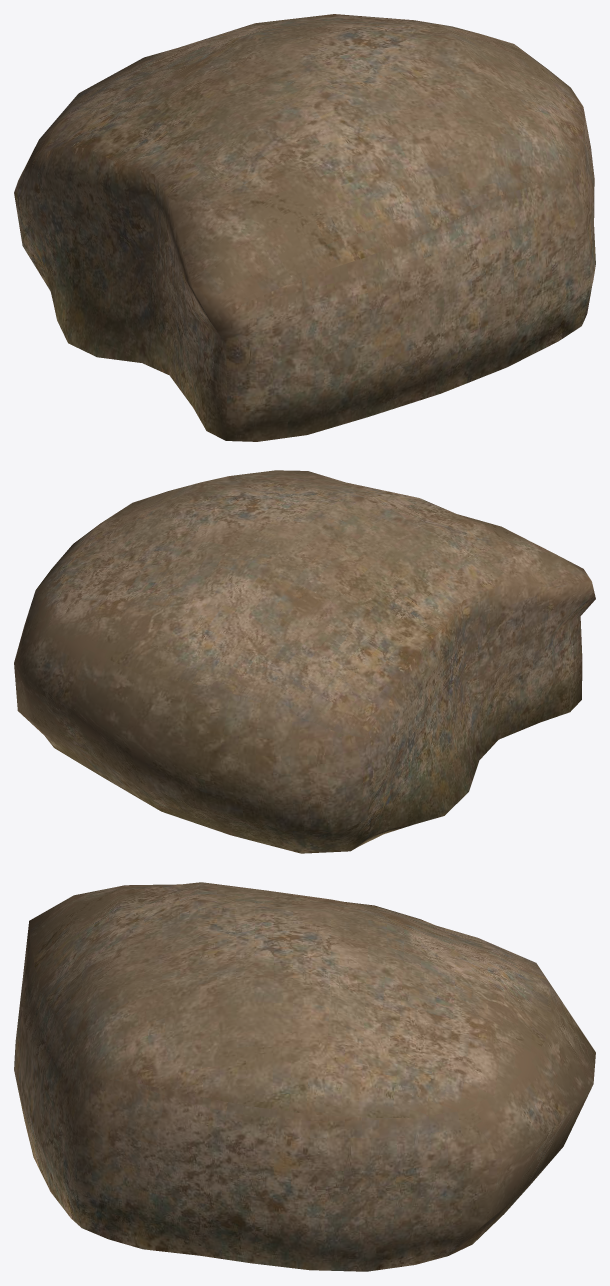
Rendered from Rock_1.glb.
3 views of the same model, one above another, from view 1: azimuth 30°, elevation 25°; view 2: azimuth 150°, elevation 25°; view 3: azimuth 270°, elevation 25° (orthographic). The views are drawn at different scales.
Visible parts, largest first — view 1: Rock_1__LOD3; view 2: Rock_1__LOD3; view 3: Rock_1__LOD3.
Boxes of the visible parts, x1,y1,x2,y2 form: Rock_1__LOD3: (14, 14, 595, 441); Rock_1__LOD3: (14, 470, 595, 853); Rock_1__LOD3: (14, 882, 595, 1271).
Size of the model in its own units: 0.6409 by 0.3556 by 0.67.
Materials: 1 (1 with a texture image).
